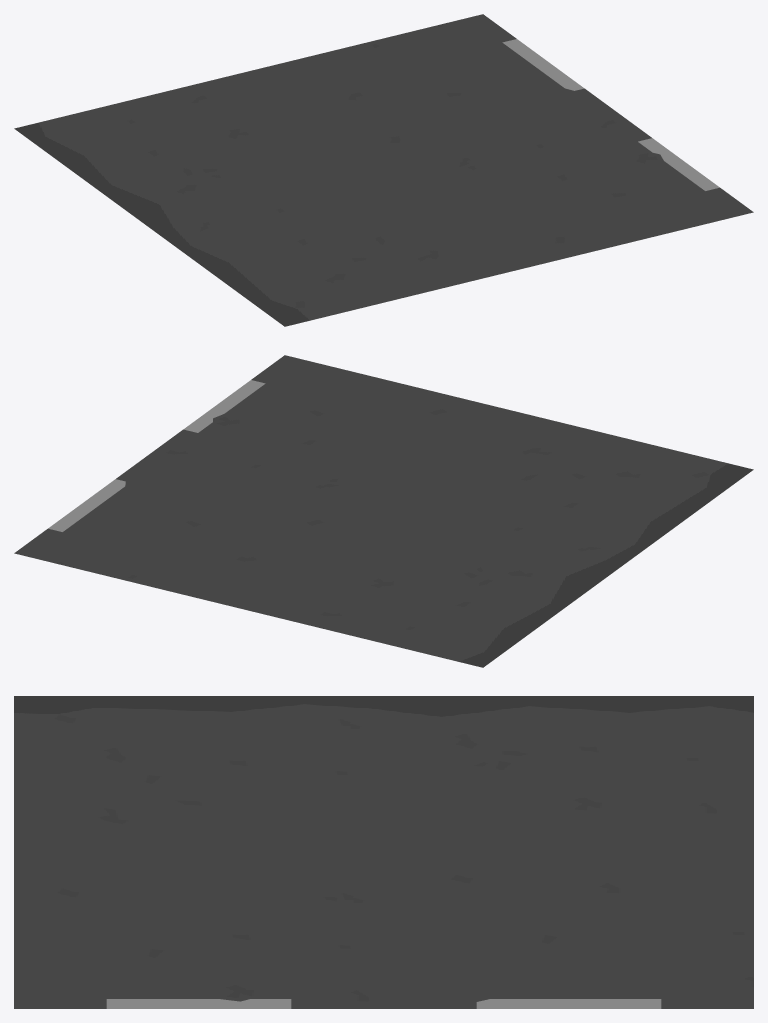
File: road.glb
3 renders of one model, top to bottom at view 1: azimuth 30°, elevation 25°; view 2: azimuth 150°, elevation 25°; view 3: azimuth 270°, elevation 25°, orthographic. The views are drawn at different scales.
Parts seen in each view (by area): view 1: SM_Env_Road_01; view 2: SM_Env_Road_01; view 3: SM_Env_Road_01.
Boxes of the visible parts, <box> form: SM_Env_Road_01: <box>14,14,753,326</box>; SM_Env_Road_01: <box>14,355,753,667</box>; SM_Env_Road_01: <box>14,696,753,1008</box>.
Bounding box in the file's own units: 5 × 1.12e-08 × 5.
1 material, 1 textured.
